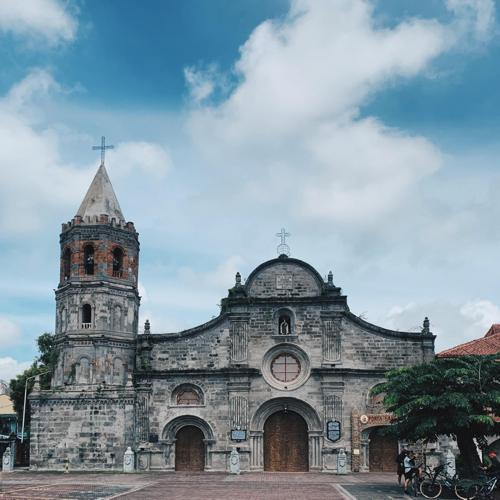Barasoain Church: (29, 128, 439, 479)
